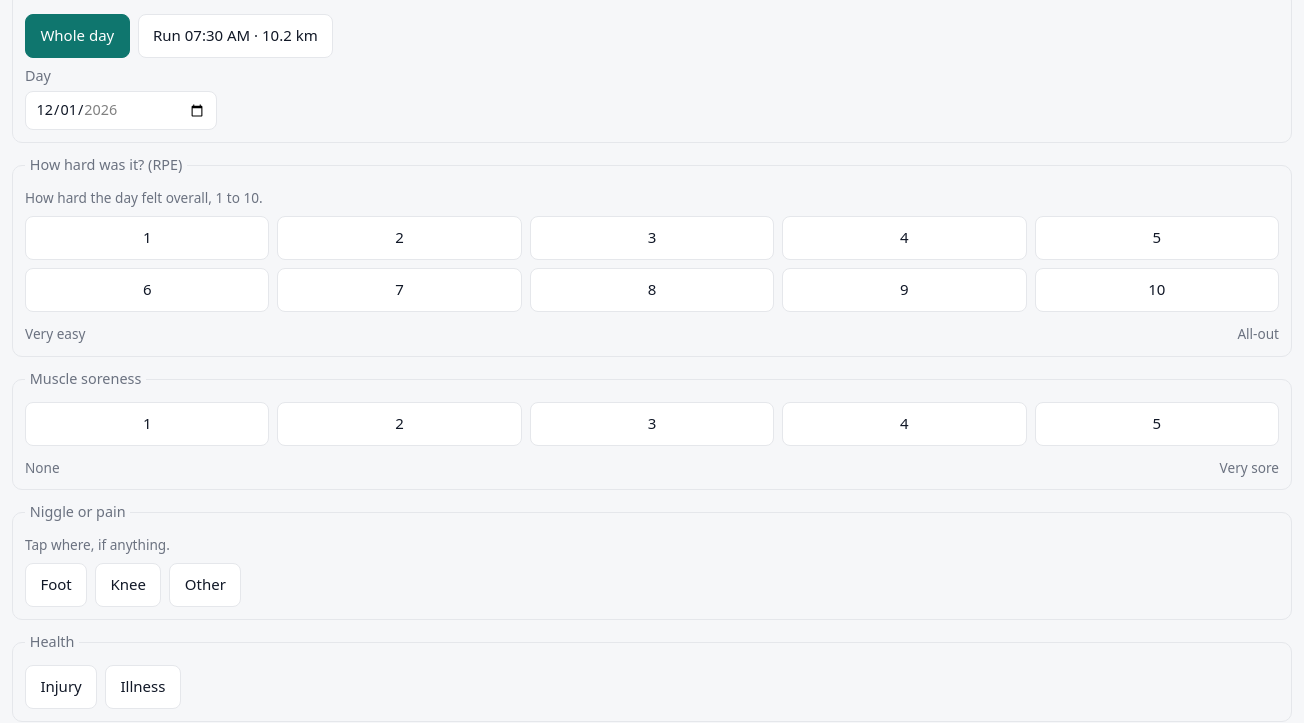
Test: Check-in page › cannot be saved empty; one tap on RPE sends a whole-day check-in
Click the button "6" at (147, 290), box [25, 268, 269, 312]
(page scrolled)
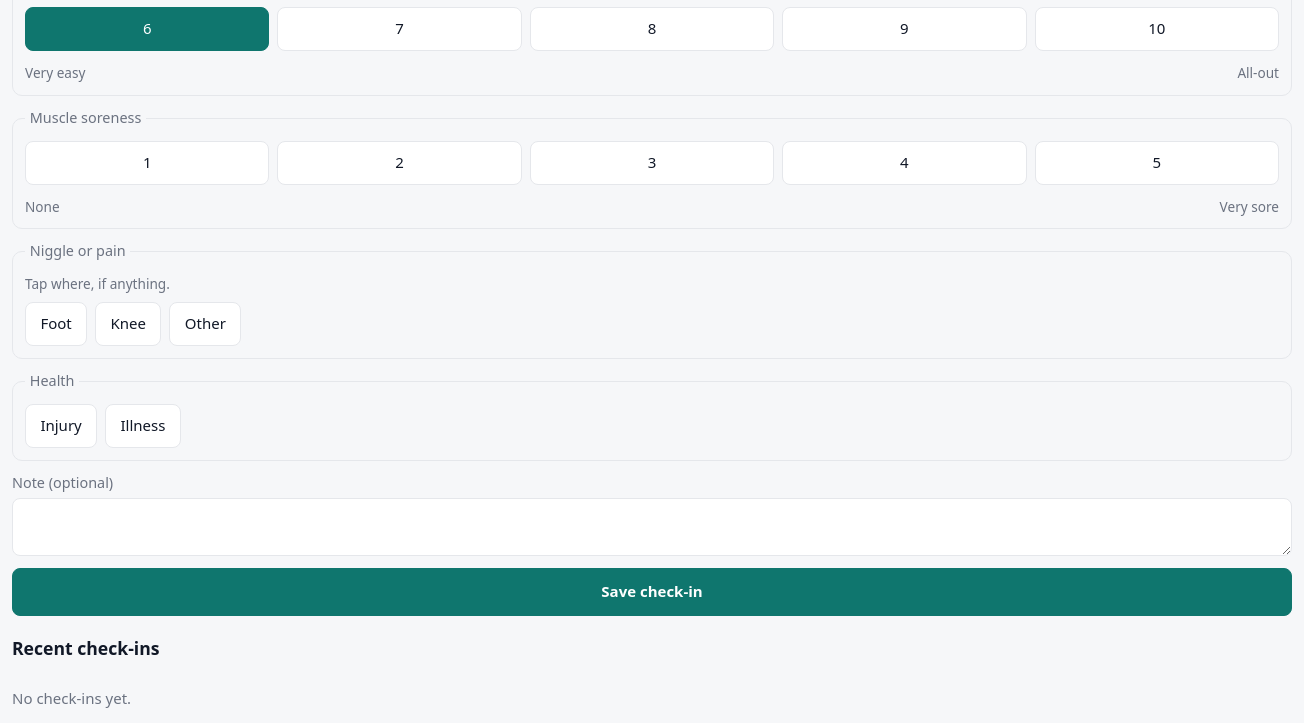
Now the button "Save check-in" is enabled
Click the button "Save check-in" at (652, 592), box [12, 568, 1292, 616]
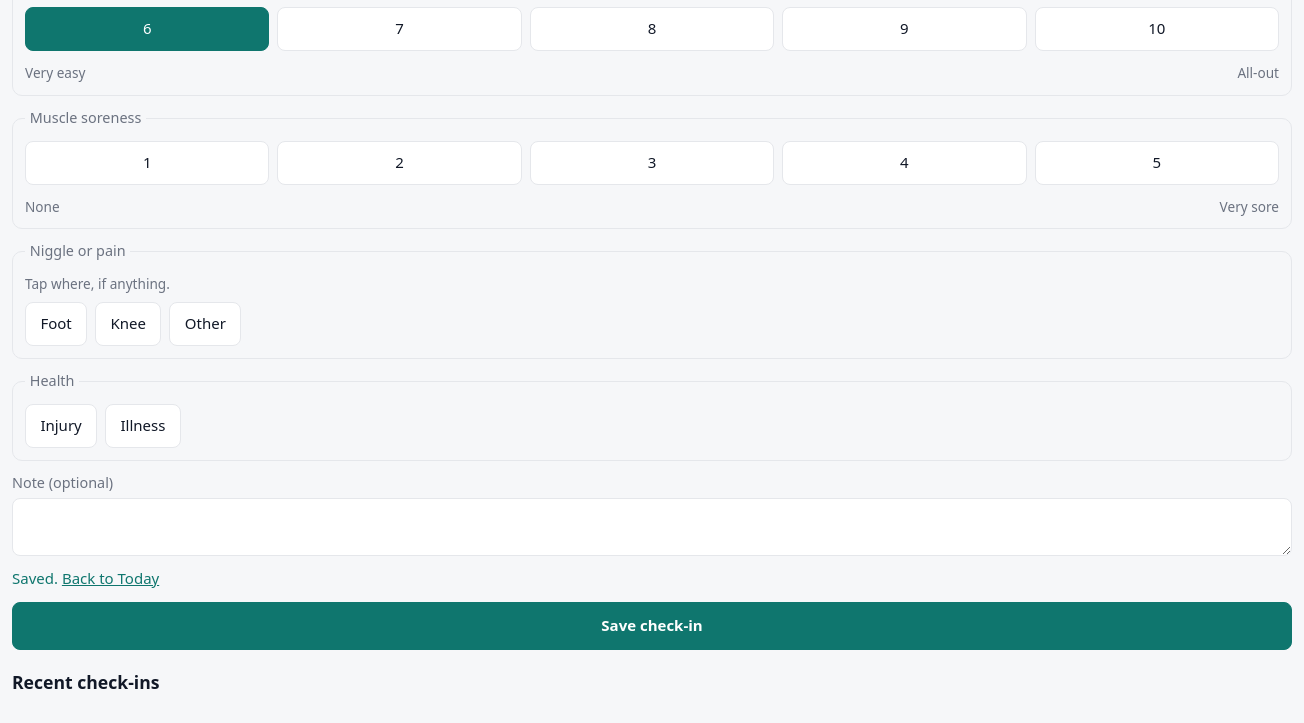
Now the message "Saved. Back to Today" is shown, box [12, 568, 159, 588]
